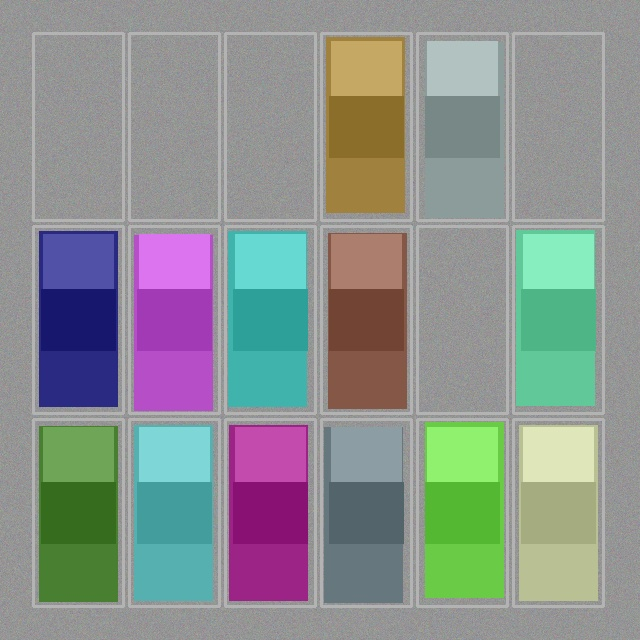space-empty: (35, 35, 121, 218), (131, 35, 217, 218), (227, 35, 313, 218), (515, 35, 601, 218), (419, 228, 505, 411)
space-occupied: (323, 35, 409, 218), (419, 35, 505, 218), (35, 228, 121, 411), (131, 228, 217, 411), (227, 228, 313, 411), (323, 228, 409, 411), (515, 228, 601, 411), (35, 421, 121, 604), (131, 421, 217, 604), (227, 421, 313, 604), (323, 421, 409, 604), (419, 421, 505, 604), (515, 421, 601, 604)
